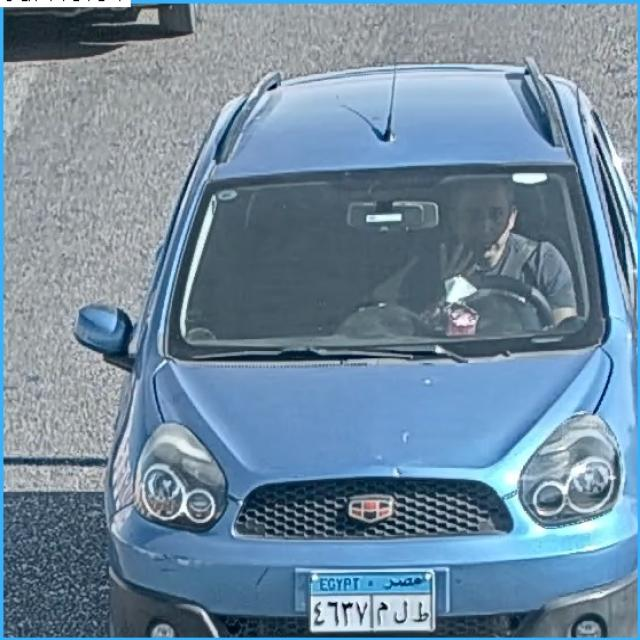windshield: (162, 179, 595, 345)
